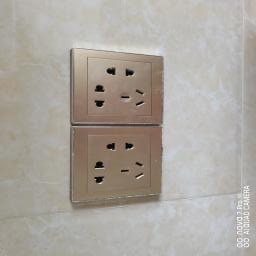outlet: (68, 43, 168, 124), (68, 126, 165, 204)
